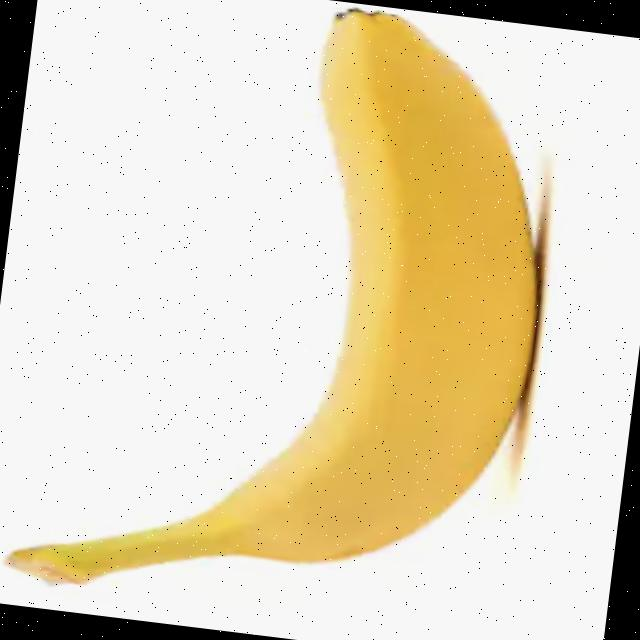Ripe: (1, 0, 575, 640)
